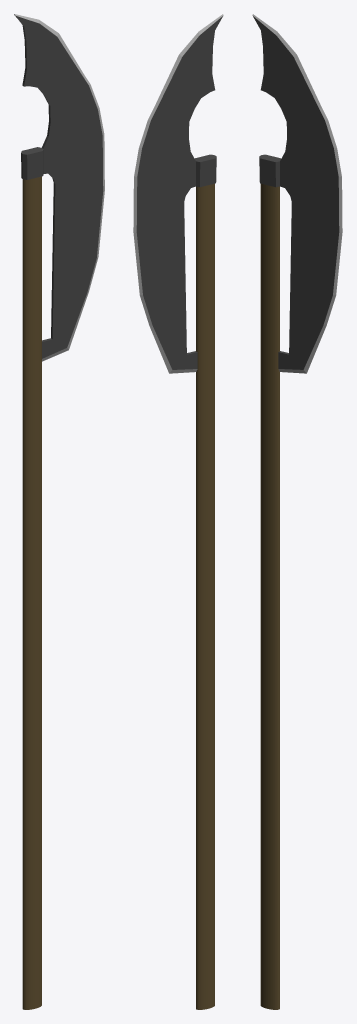
The model's file is berdysz.fbx.
3 views of the same model, side by side, from view 1: azimuth 30°, elevation 25°; view 2: azimuth 210°, elevation 25°; view 3: azimuth 330°, elevation 25° (orthographic).
Parts seen in each view (by area): view 1: Circle; view 2: Circle; view 3: Circle.
Part boxes in pixels (bbox=[...]): Circle: bbox=[14, 14, 104, 1009]; Circle: bbox=[133, 14, 223, 1009]; Circle: bbox=[252, 14, 342, 1009].
Bounding box in the file's own units: 43.96 × 464 × 4.51.
